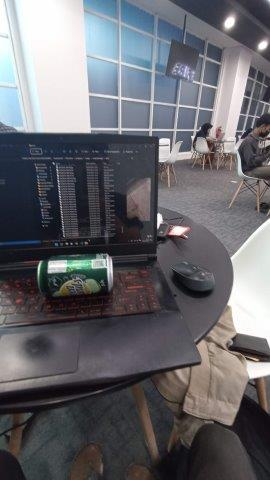kaleng: (37, 253, 115, 296)
